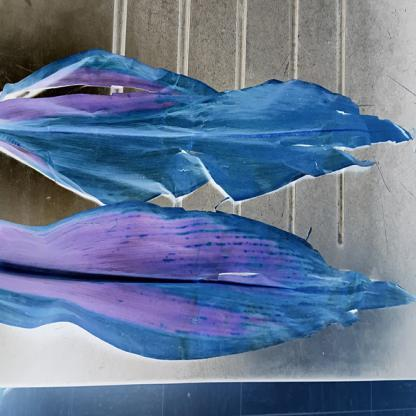Corn leaf blight: (0, 195, 416, 365), (0, 42, 414, 204)
